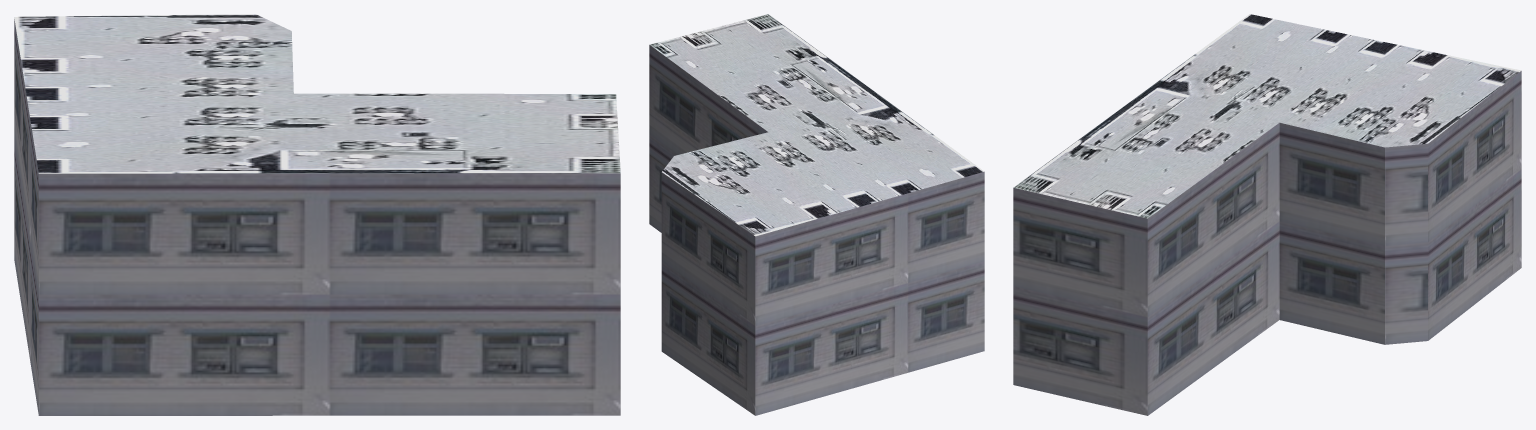
The model's file is ResTex__1003.fbx.
The picture shows the model from 3 angles, left to right: view 1: azimuth 30°, elevation 25°; view 2: azimuth 150°, elevation 25°; view 3: azimuth 270°, elevation 25°; orthographic projection. The views are drawn at different scales.
Visible parts, largest first — view 1: CityEngineMaterial_1_m, CityEngineMaterial_4_m; view 2: CityEngineMaterial_1_m, CityEngineMaterial_4_m; view 3: CityEngineMaterial_1_m, CityEngineMaterial_4_m.
Boxes of the visible parts, x1,y1,x2,y2 form: CityEngineMaterial_1_m: [14, 19, 620, 415]; CityEngineMaterial_4_m: [14, 14, 620, 173]; CityEngineMaterial_1_m: [649, 45, 984, 415]; CityEngineMaterial_4_m: [650, 14, 983, 236]; CityEngineMaterial_1_m: [1013, 71, 1521, 415]; CityEngineMaterial_4_m: [1014, 14, 1521, 218].
Size of the model in its own units: 13.34 by 6 by 14.01.
2 materials, 2 textured.
